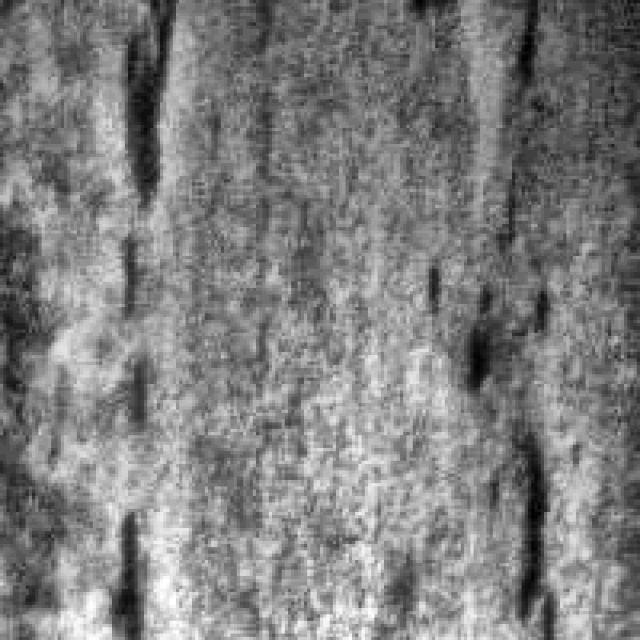Patches: (419, 255, 554, 630), (99, 0, 172, 214), (96, 227, 150, 426), (92, 480, 150, 637), (506, 0, 550, 96)
